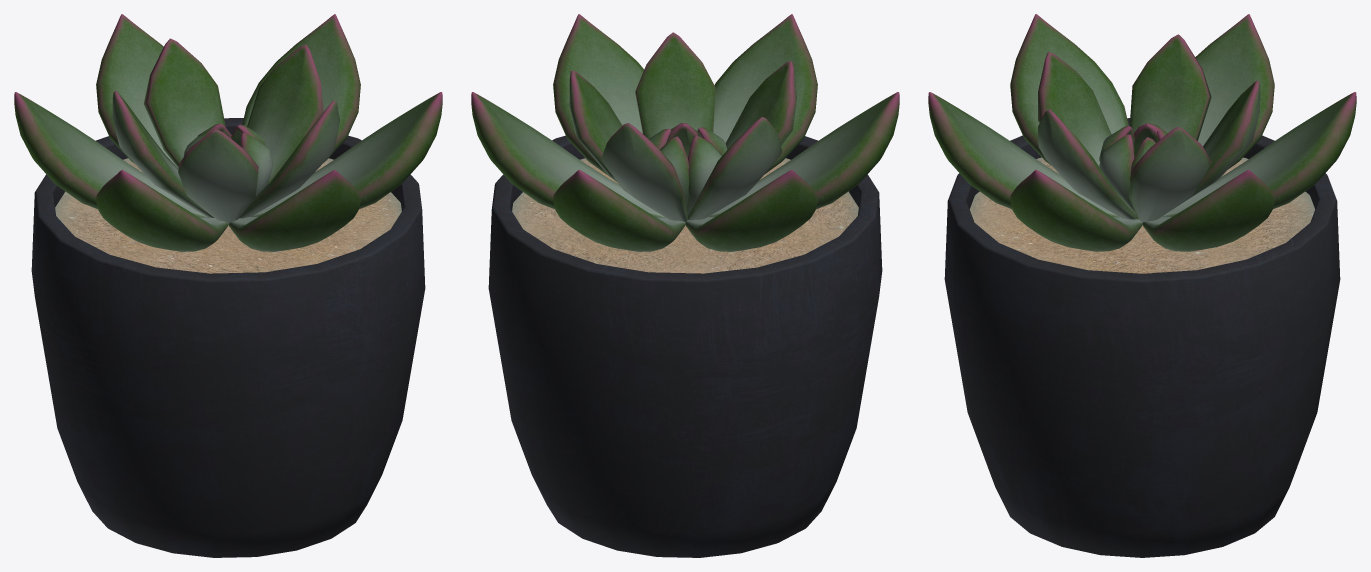
Rendered from shelf_plant2.fbx.
3 renders of one model, left to right at view 1: azimuth 30°, elevation 25°; view 2: azimuth 150°, elevation 25°; view 3: azimuth 270°, elevation 25°, orthographic.
Visible parts, largest first — view 1: shelf_plant_succulent; view 2: shelf_plant_succulent; view 3: shelf_plant_succulent.
Part boxes in pixels (x1=…): shelf_plant_succulent: x1=14, y1=14, x2=442, y2=557; shelf_plant_succulent: x1=471, y1=14, x2=899, y2=557; shelf_plant_succulent: x1=928, y1=14, x2=1356, y2=557.
Size of the model in its own units: 14.24 by 16.66 by 15.41.
